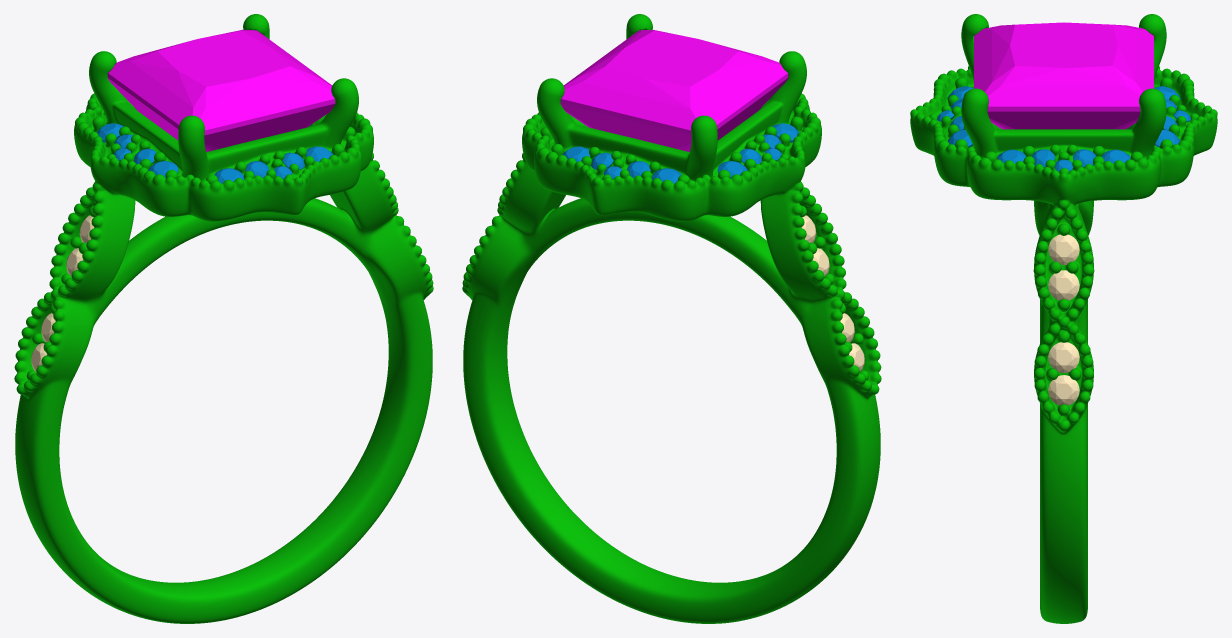
File: BE1D4816_PR_200ct_RENDER.glb
The picture shows the model from 3 angles, left to right: view 1: azimuth 30°, elevation 25°; view 2: azimuth 150°, elevation 25°; view 3: azimuth 270°, elevation 25°; orthographic projection.
Parts seen in each view (by area): view 1: Metal 01, CS_Diamond_Princess; view 2: Metal 01, CS_Diamond_Princess; view 3: Metal 01, CS_Diamond_Princess, Diamond_Round_Gem_SH.007, Diamond_Round_Gem_SH.004, Diamond_Round_Gem_SH.006, Diamond_Round_Gem_SH.005.
Part boxes in pixels (bbox=[...]): Metal 01: bbox=[14, 14, 433, 623]; CS_Diamond_Princess: bbox=[107, 29, 335, 151]; Metal 01: bbox=[462, 14, 881, 623]; CS_Diamond_Princess: bbox=[560, 30, 788, 151]; Metal 01: bbox=[910, 14, 1217, 623]; CS_Diamond_Princess: bbox=[974, 22, 1153, 129]; Diamond_Round_Gem_SH.007: bbox=[1048, 342, 1079, 372]; Diamond_Round_Gem_SH.004: bbox=[1048, 270, 1079, 300]; Diamond_Round_Gem_SH.006: bbox=[1048, 375, 1079, 405]; Diamond_Round_Gem_SH.005: bbox=[1048, 234, 1079, 264].
Size of the model in its own units: 19.93 by 25.6 by 12.81.
